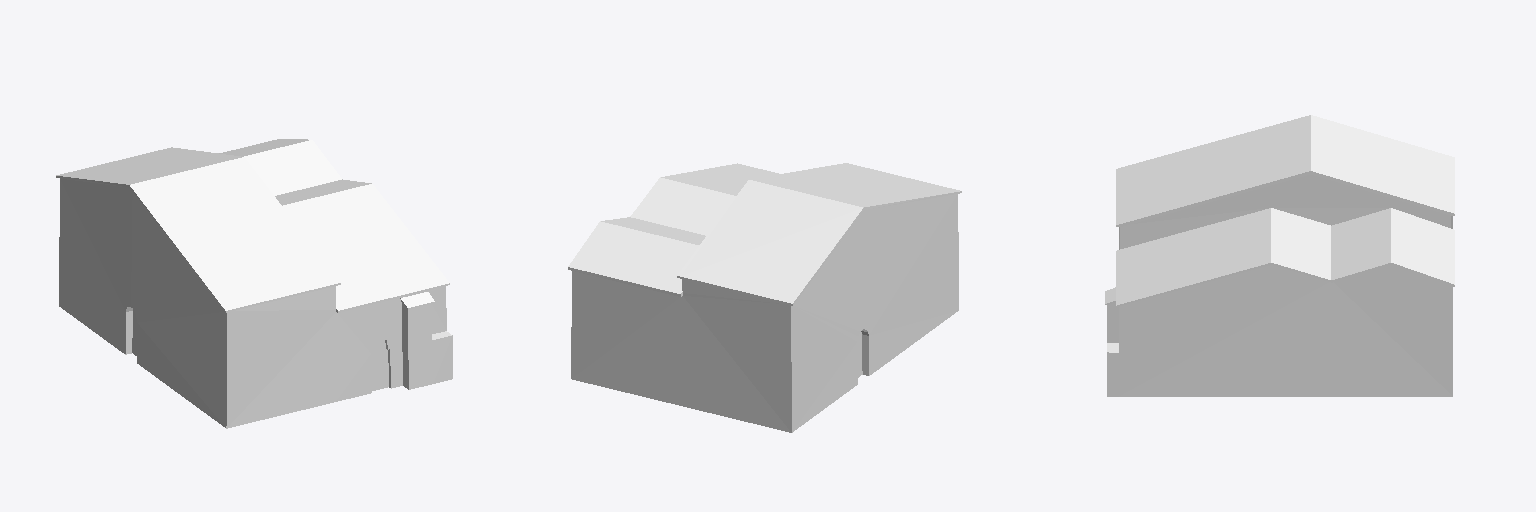
Rendered from Negozio.obj.
3 views of the same model, side by side, from view 1: azimuth 30°, elevation 25°; view 2: azimuth 150°, elevation 25°; view 3: azimuth 270°, elevation 25° (orthographic).
Visible parts, largest first — view 1: Booleana.1; view 2: Booleana.1; view 3: Booleana.1.
Boxes of the visible parts, x1,y1,x2,y2 form: Booleana.1: [56, 139, 452, 428]; Booleana.1: [568, 163, 961, 432]; Booleana.1: [1105, 115, 1454, 396].
Size of the model in its own units: 13.16 by 9.73 by 17.81.